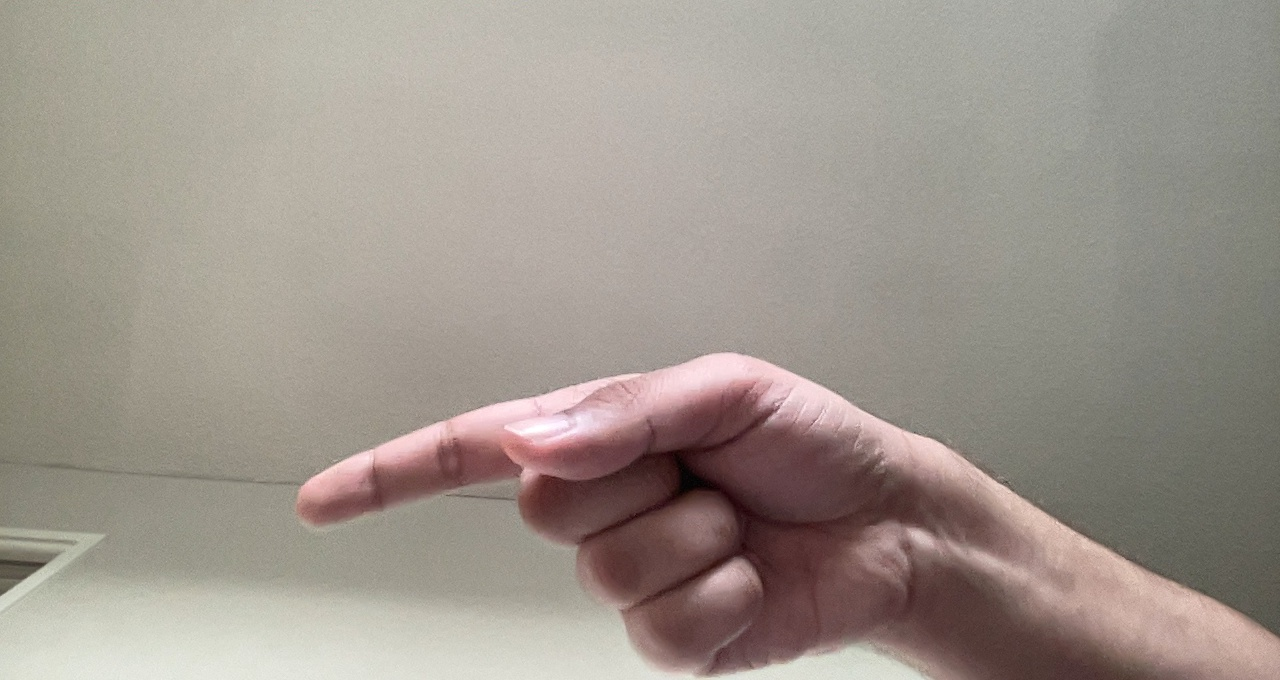fingerright: (280, 340, 926, 674)
